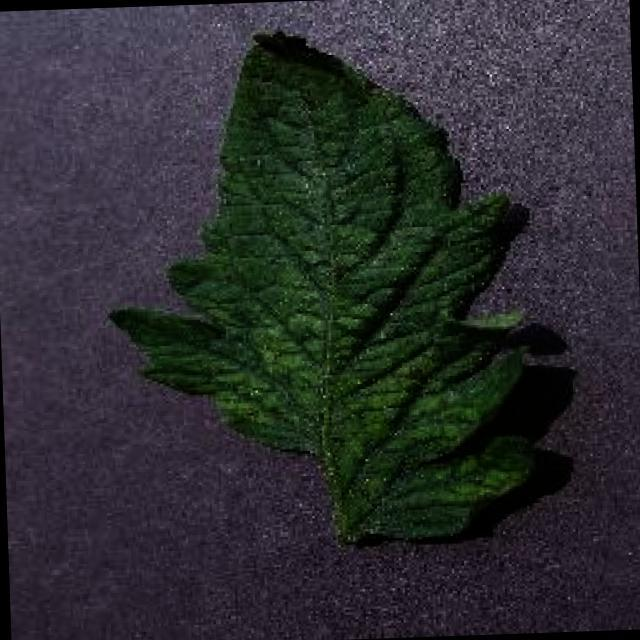Tomato mosaic virus leaf: (91, 15, 543, 552)
